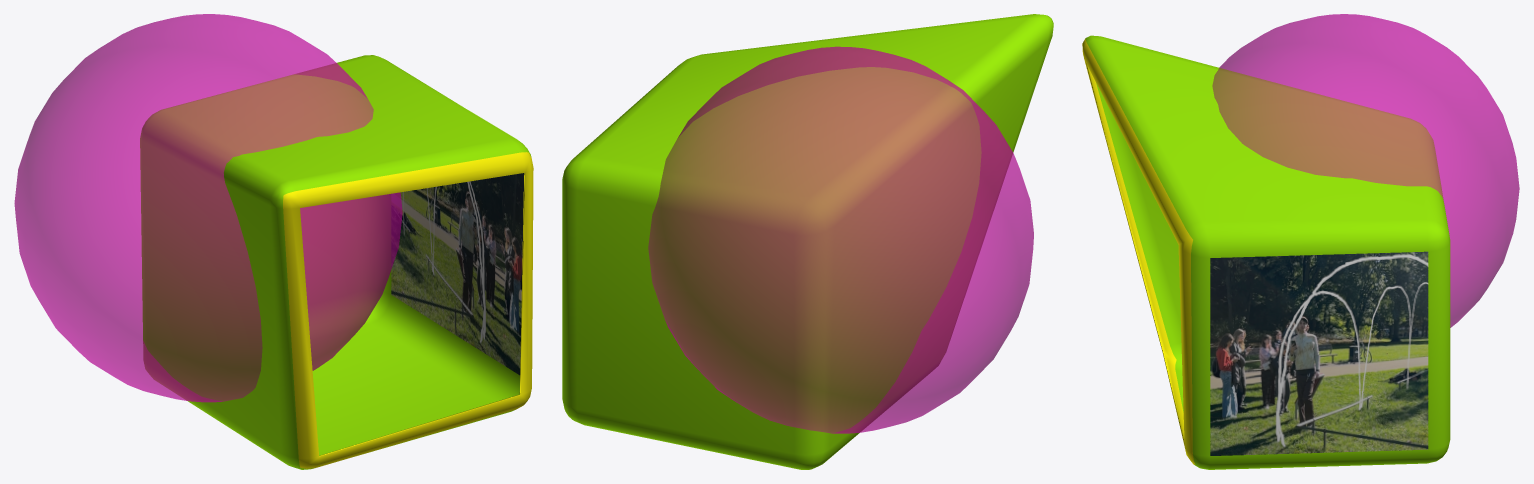
3 views of the same model, side by side, from view 1: azimuth 30°, elevation 25°; view 2: azimuth 150°, elevation 25°; view 3: azimuth 270°, elevation 25° (orthographic). The views are drawn at different scales.
Parts seen in each view (by area): view 1: Cube, Sphere; view 2: Cube, Sphere; view 3: Cube, Sphere.
Part boxes in pixels (x1,y1,x2,y2): Cube: (140,55,533,469); Sphere: (14,14,402,402); Cube: (562,14,1053,469); Sphere: (648,46,1033,433); Cube: (1082,35,1450,469); Sphere: (1212,14,1519,327).
Size of the model in its own units: 3.23 by 2.81 by 3.28.
Materials: 4 (1 with a texture image).
